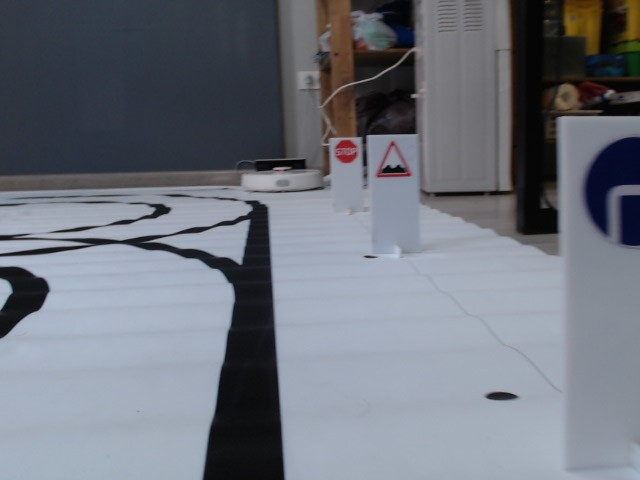Nerov: (374, 140, 412, 178)
Stop: (333, 140, 358, 164)
